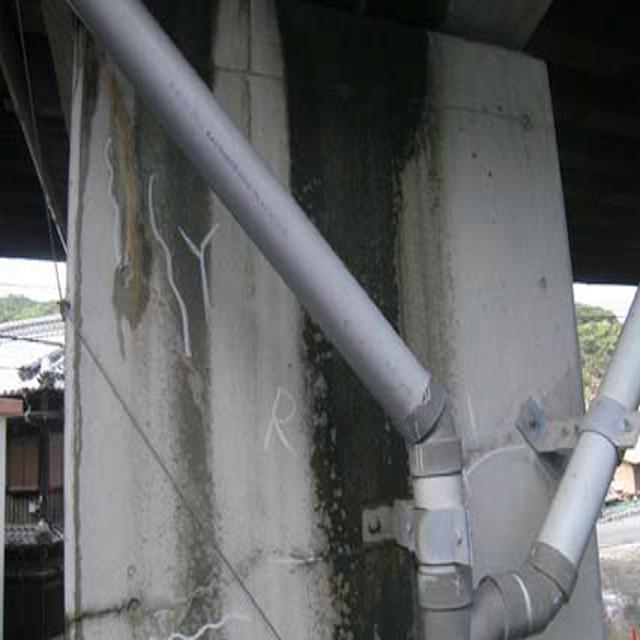leakage: (278, 9, 418, 632), (124, 109, 230, 624)
